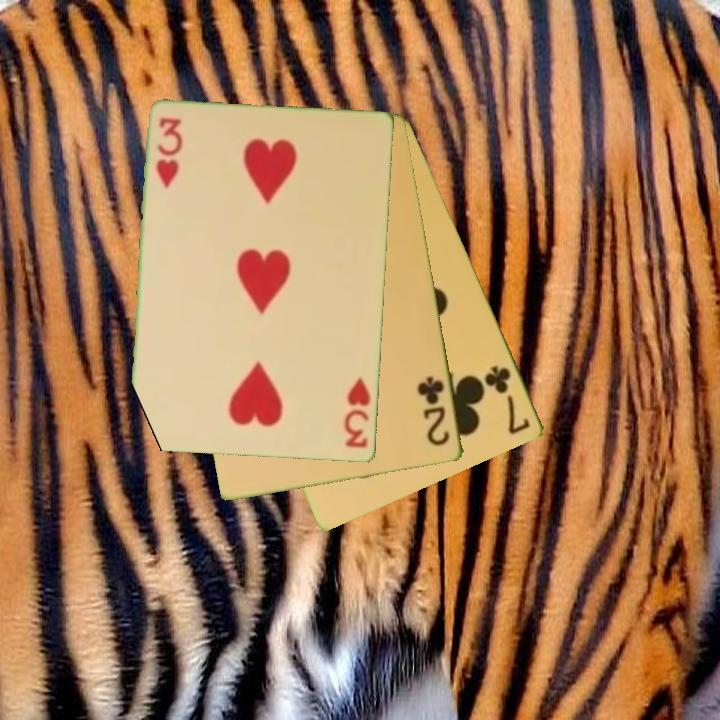2c: (414, 373, 453, 449)
3h: (341, 375, 374, 451), (153, 114, 185, 192)
7c: (481, 362, 534, 438)
